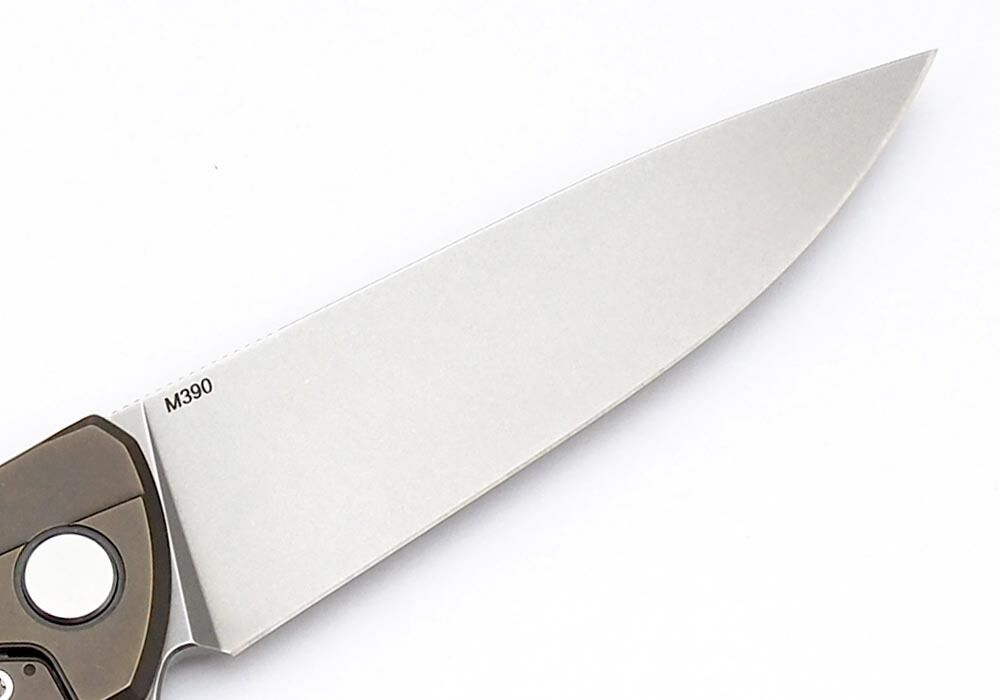knief: (173, 45, 951, 693)
